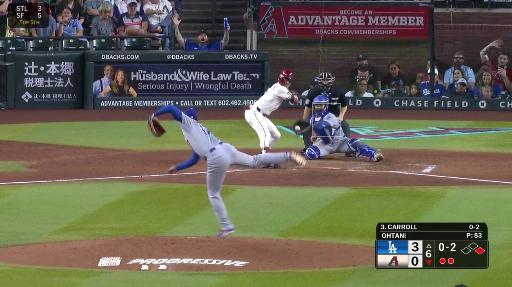pitcher: (147, 103, 308, 238)
